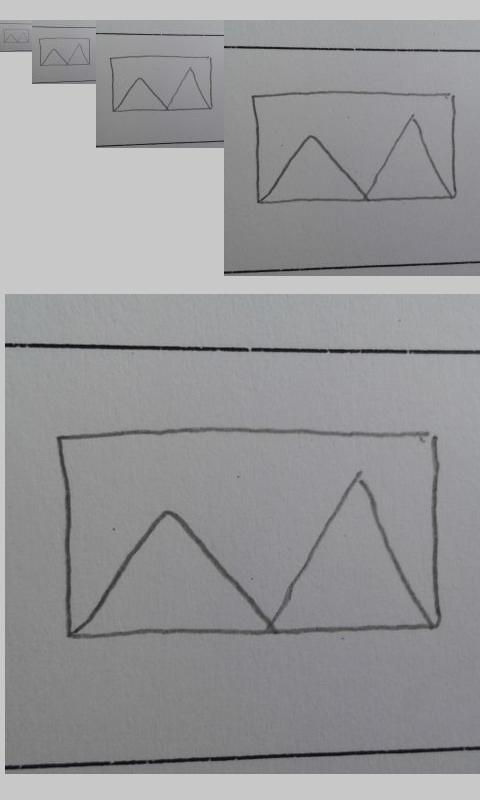image_view: (56, 428, 442, 639), (252, 89, 458, 204), (109, 54, 215, 113), (38, 37, 91, 67), (3, 28, 30, 44)
